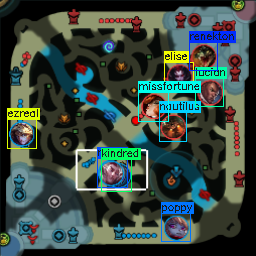elise: (168, 65, 192, 89)
ezreal: (11, 123, 32, 146)
kindred: (106, 162, 131, 188)
lucian: (197, 80, 223, 105)
missfortune: (142, 95, 165, 118)
nautilus: (161, 115, 185, 138)
poppy: (165, 216, 188, 240)
rakan: (99, 161, 122, 186)
renekton: (191, 44, 215, 69)
